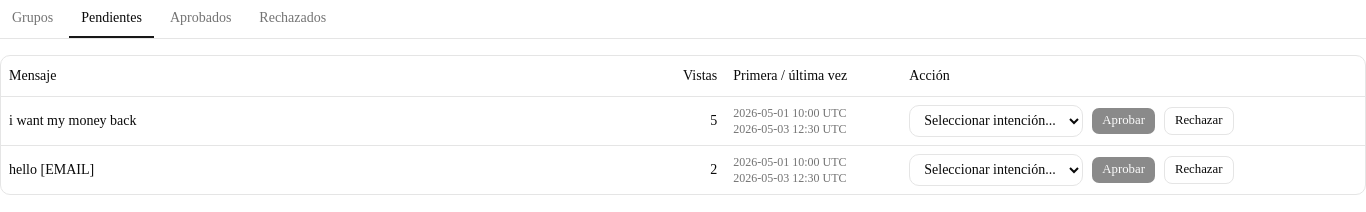
Test: ReviewQueue › removes the row and refreshes when the item is stale (404/409)
Select "refund" in the dropdown named "intención" in the row of "i want my money back" at (996,120), box [909,104,1083,136]
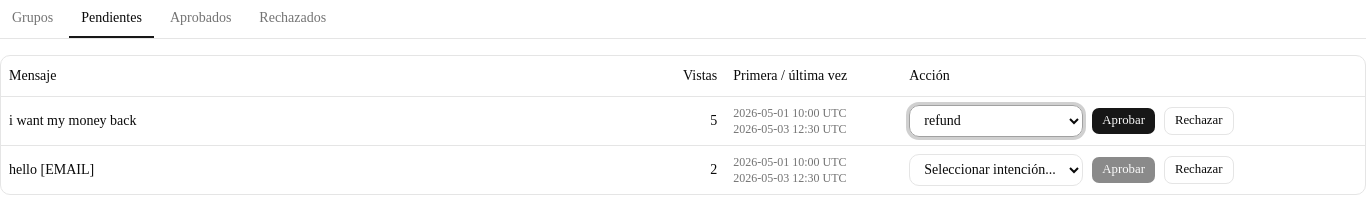
Click the button "Aprobar" in the row of "i want my money back" at (1124,120), box [1091,106,1156,134]
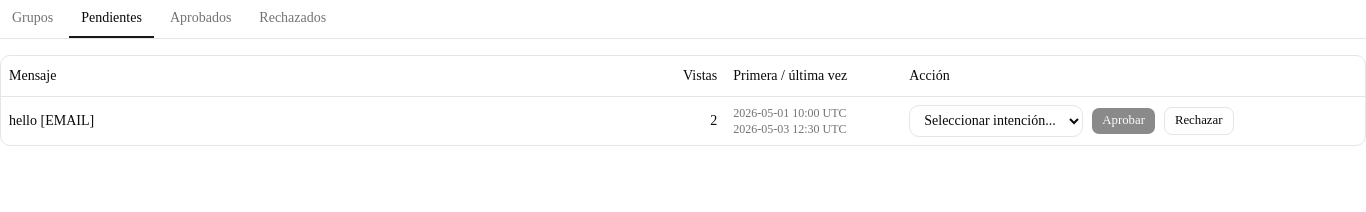
Now the text "i want my money back" is gone
